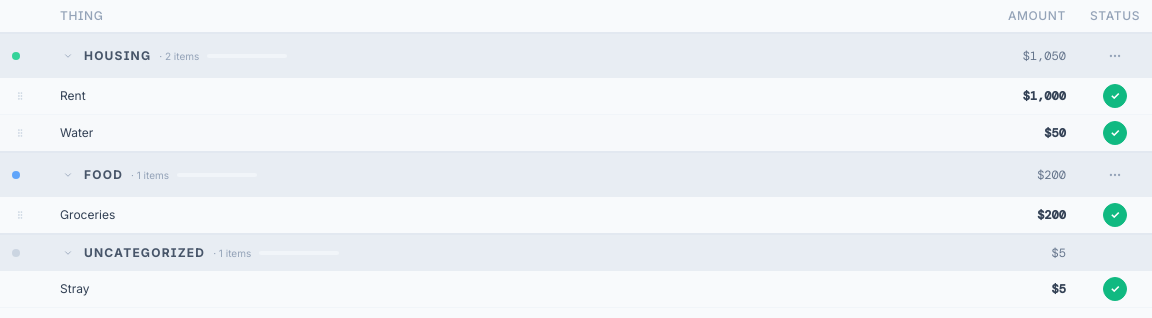
Test: CategorizedList › collapses and re-expands a section
Click the button without text next to "Housing" at (68, 56), box [60,48,76,64]
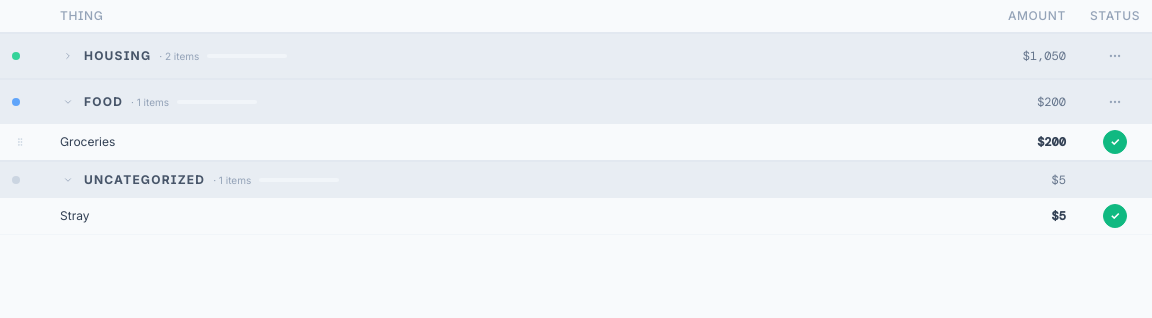
expect the text "Groceries" is shown: met, box [48,124,934,161]
expect the text "Rent" is gone: met
Click the button without text next to "Housing" at (68, 56), box [60,48,76,64]
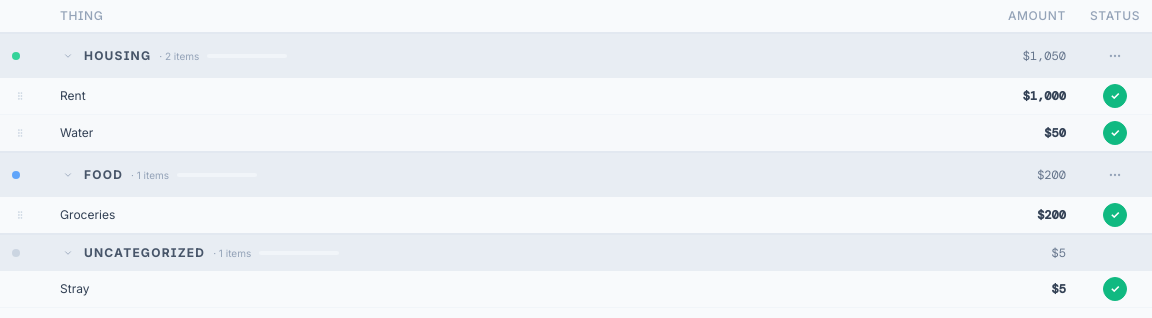
expect the text "Rent" is shown: met, box [48,78,934,114]
